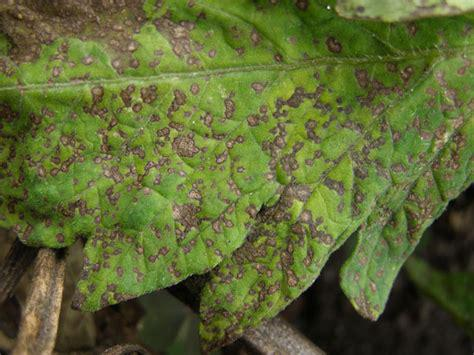BACTERIAL DISEASE: (192, 168, 339, 355), (331, 171, 456, 319), (1, 0, 152, 68), (347, 68, 448, 168), (18, 26, 137, 97), (170, 215, 287, 284), (209, 111, 324, 171), (36, 134, 149, 191), (146, 9, 219, 81), (95, 194, 152, 284), (288, 204, 338, 254), (300, 27, 343, 65), (167, 135, 201, 175), (149, 102, 190, 126)
